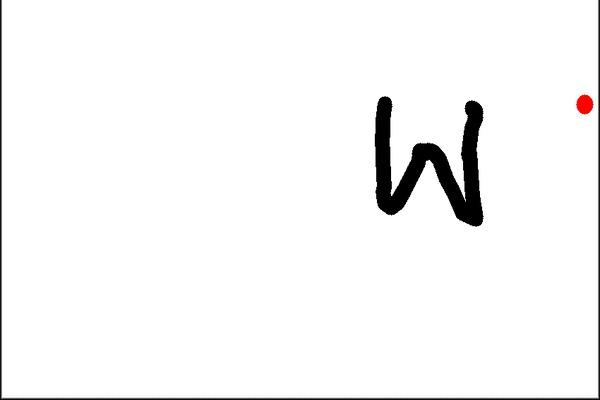w: (359, 78, 507, 250)
